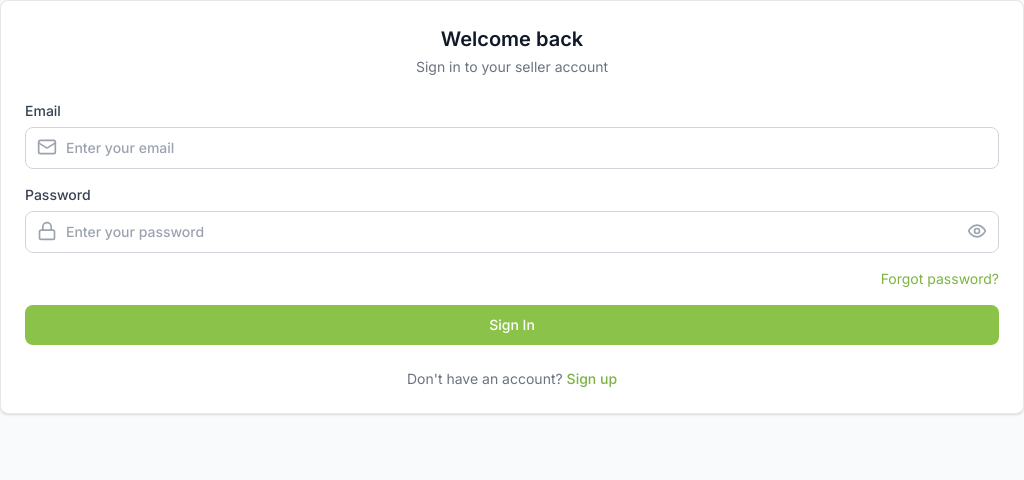
Test: LoginPage › clears error when user types
// Trigger validation error
Step 1. Click the button "Sign In" → {"x": 512, "y": 325}, box [25,305,999,345]
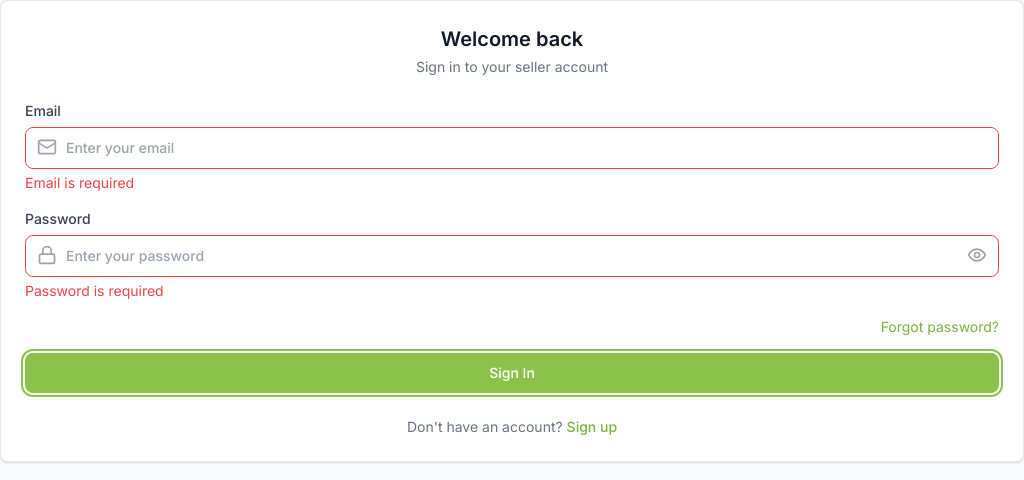
Now the text "Email is required" is shown, box [25,174,134,191]
// Type in email field
Step 2. Type "t" into the field with placeholder "Enter your email" → {"x": 512, "y": 148}, box [25,127,999,169]
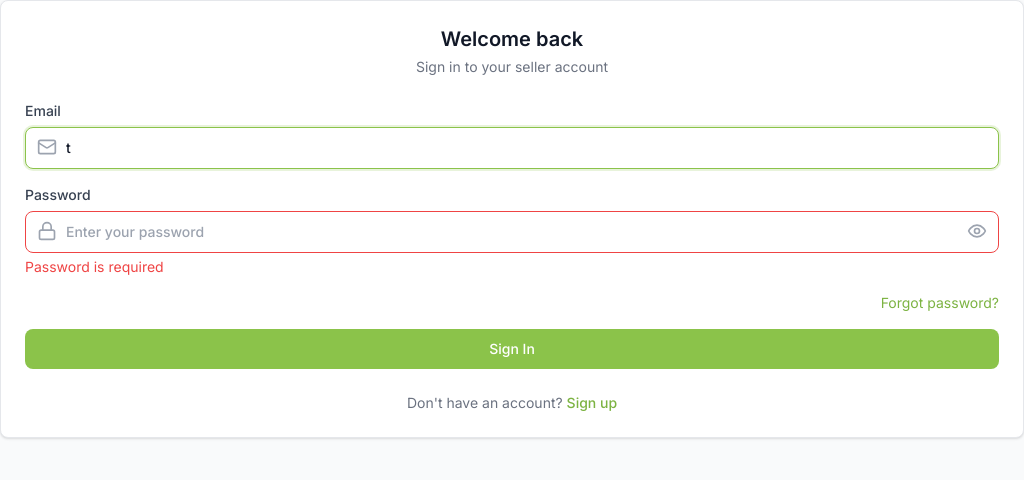
Now the text "Email is required" is gone
